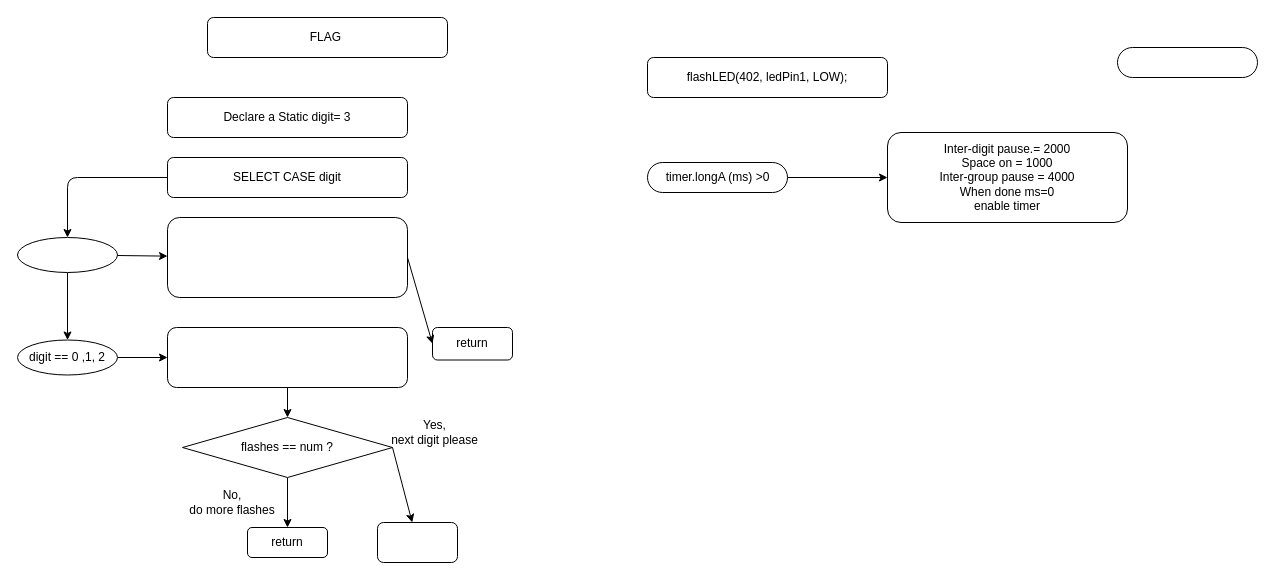
Some shapes in this 1275 by 580 pixel diagram are drawn without their labels. Each missing label, with the box of its shape:
digit ++ return: (376, 522, 458, 562)
digit == 3: (16, 236, 118, 272)
IF (t1.done(200, num [ digit ] * 2)) Toggle LED ON/OFF flashes ++: (166, 326, 408, 388)
timer.longA: (1116, 46, 1258, 78)
Turn off LED IF(t1.done(800)) Convert number to H T U digitPointer = 0: (166, 216, 408, 298)
